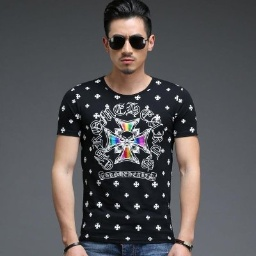face: (103, 2, 157, 74)
